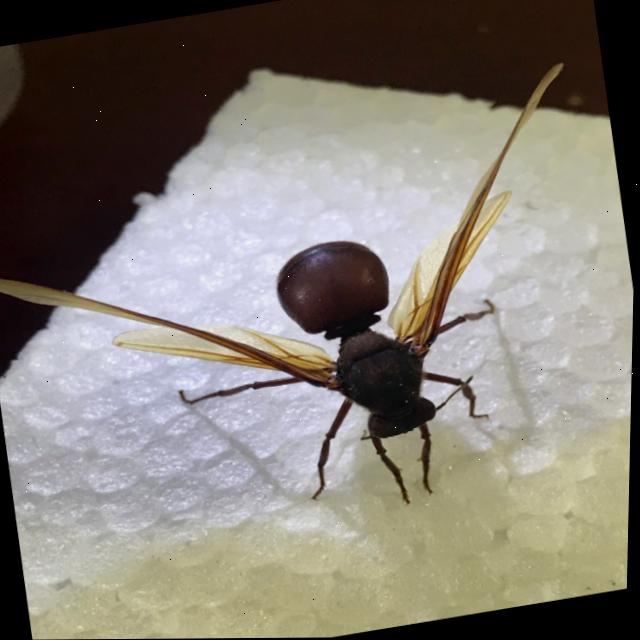Dead-Female-Alate: (0, 61, 630, 570)
